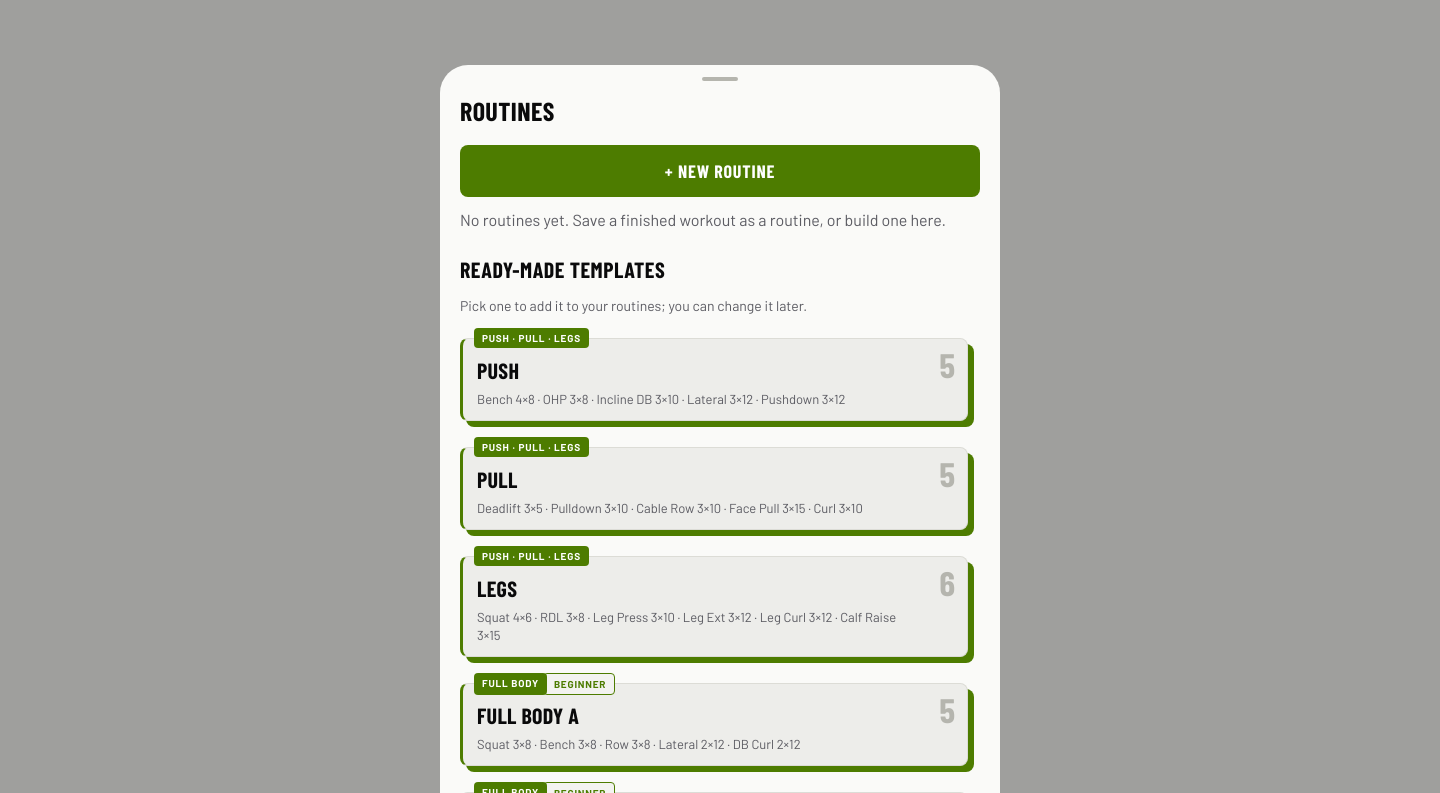
Test: RoutinesSheet › needs a name and at least one exercise before creating
Click the button with test id "new-routine": (720, 171) [460, 145, 980, 197]
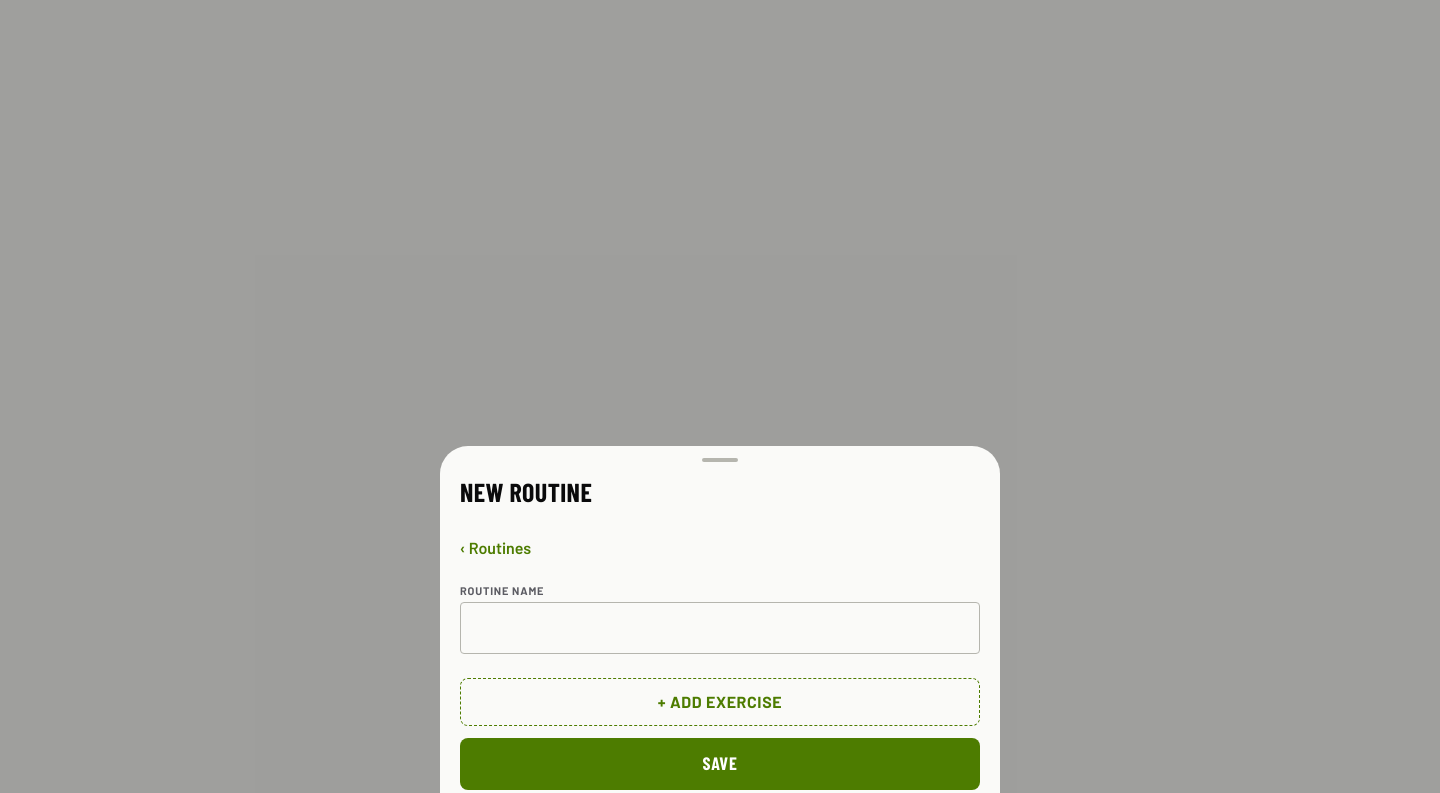
Click the button with test id "save-routine": (720, 764) [460, 738, 980, 790]
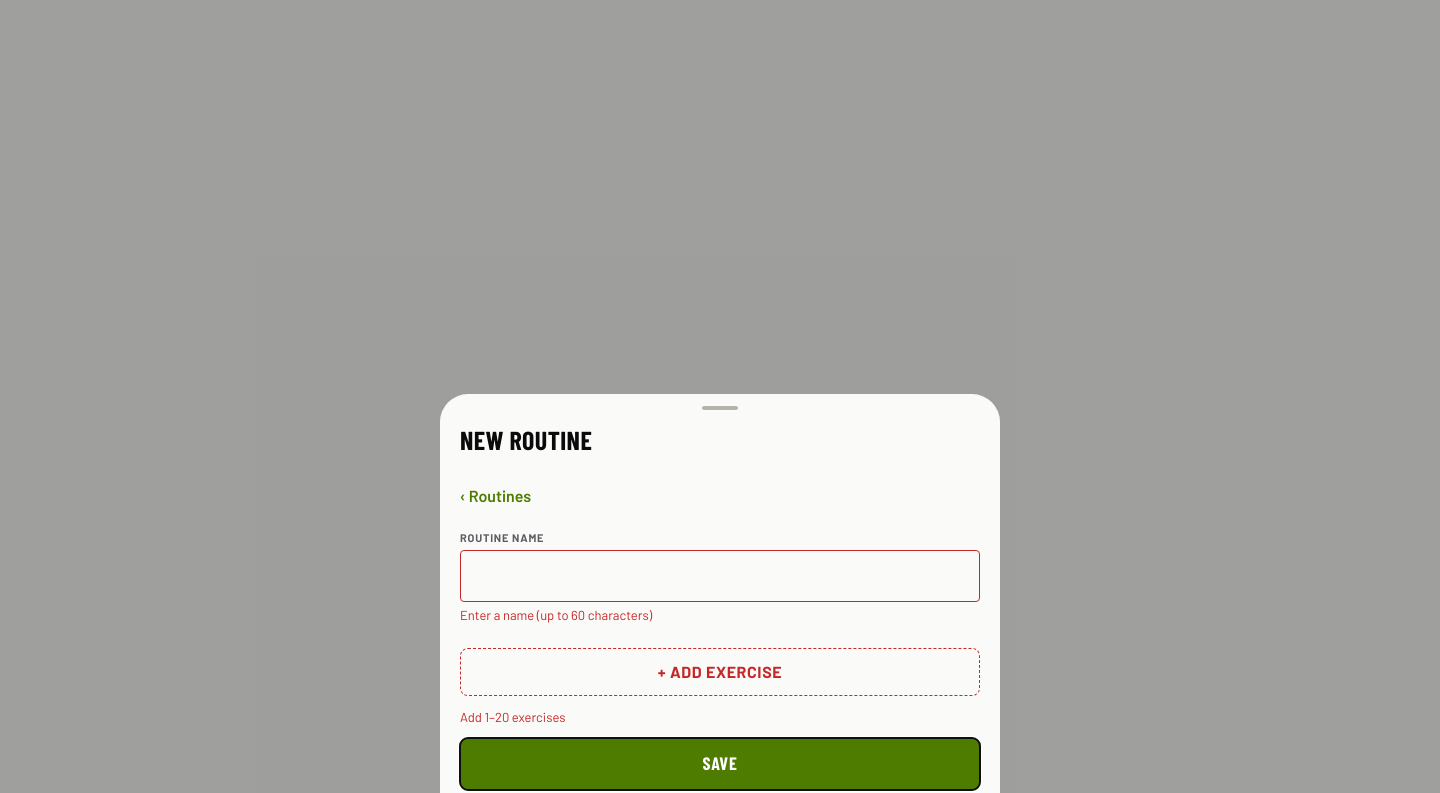
Check: the text "Enter a name (up to 60 characters)" is shown, box [460, 607, 652, 623]
Check: the text "Add 1–20 exercises" is shown, box [460, 709, 566, 725]
